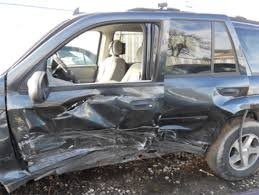Broken-glass: (41, 22, 160, 88)
Dent: (212, 85, 249, 113)
Smashed: (18, 86, 207, 181)
